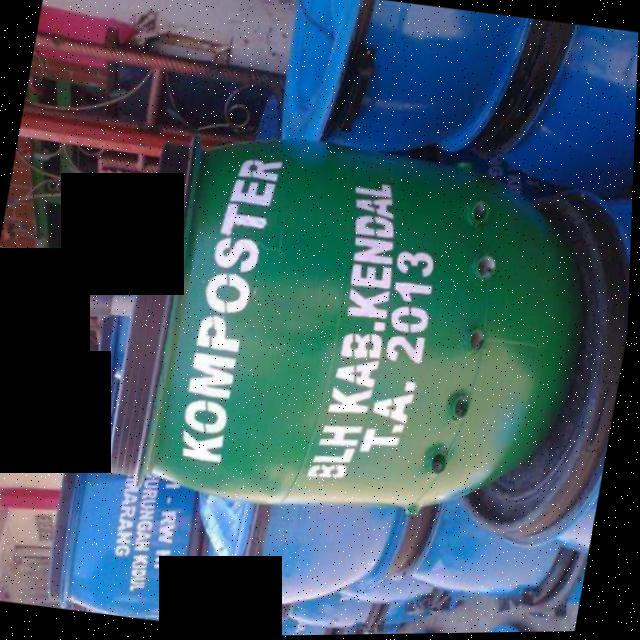bin: (84, 2, 626, 562)
